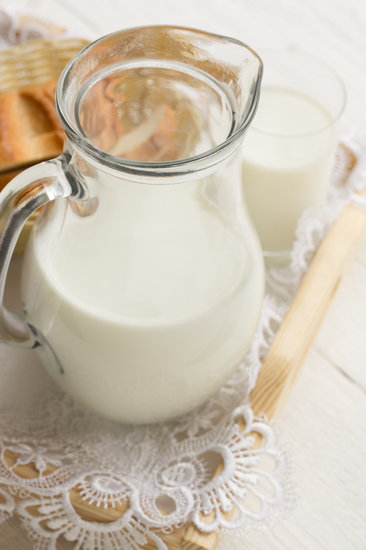glass of milk: (46, 54, 261, 423), (240, 66, 338, 246)
